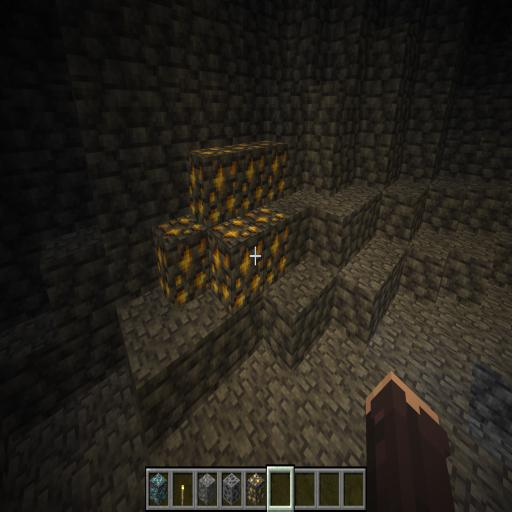gold ore: (146, 127, 298, 317)
